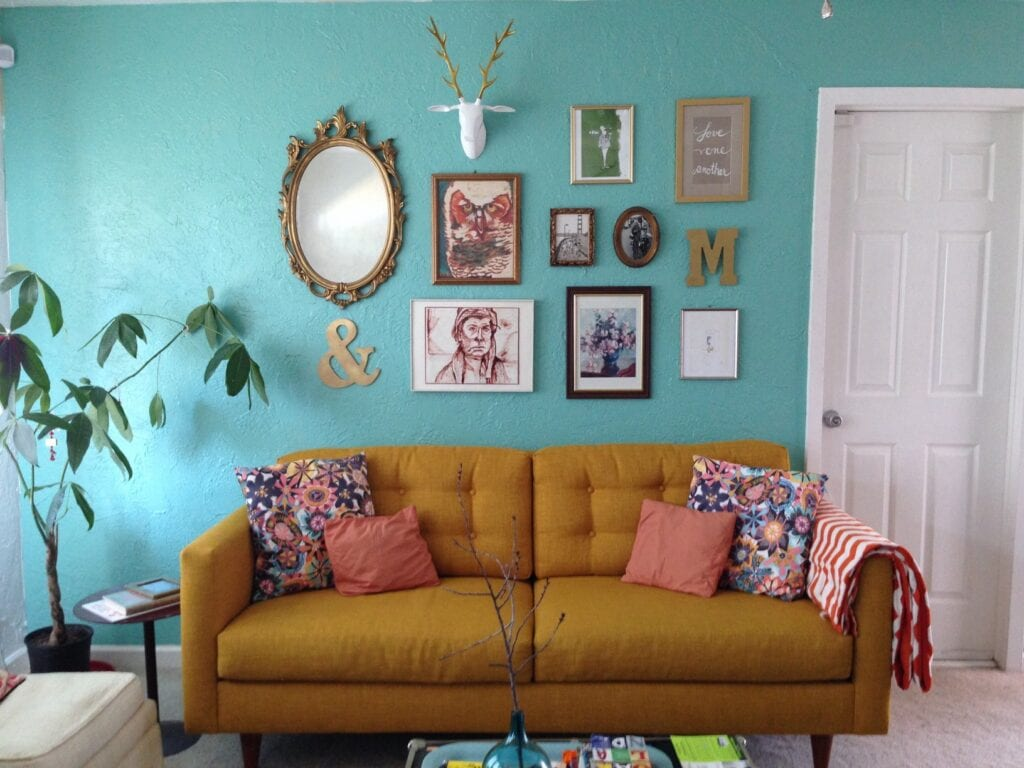merah: (638, 501, 722, 590), (330, 517, 436, 586)
putih: (453, 105, 489, 156)
